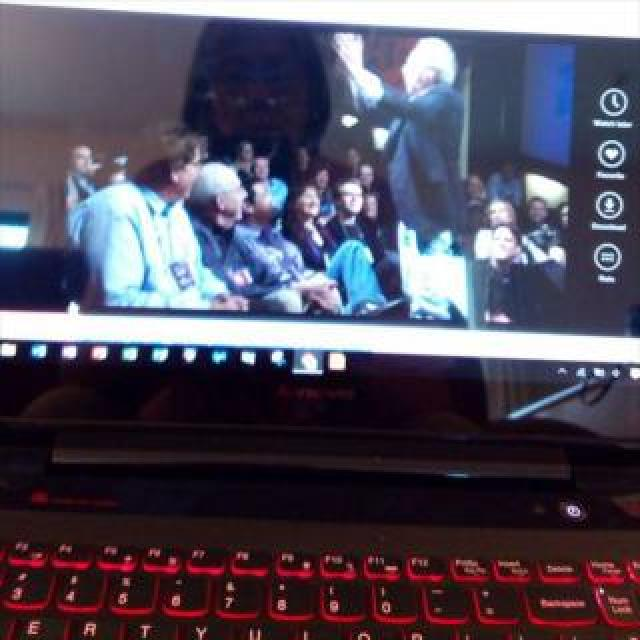laptop_computer: (7, 0, 639, 638)
